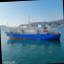fishing boat: (1, 12, 62, 44)
